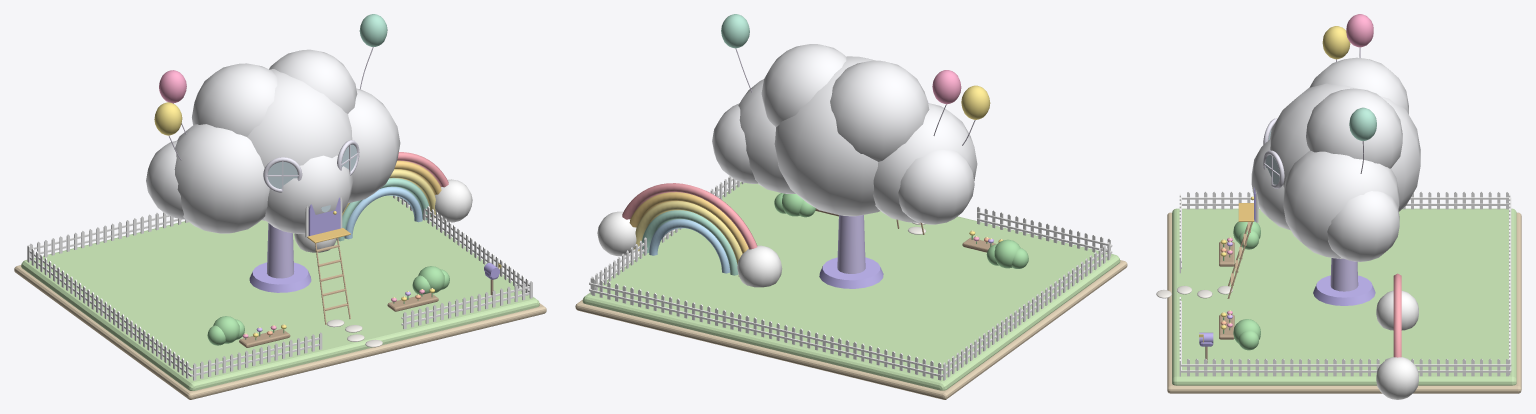
Rendered from building_sky_L08.glb.
3 views of the same model, side by side, from view 1: azimuth 30°, elevation 25°; view 2: azimuth 150°, elevation 25°; view 3: azimuth 270°, elevation 25° (orthographic). The views are drawn at different scales.
Parts seen in each view (by area): view 1: sky_L8, Body; view 2: sky_L8, Body; view 3: sky_L8, Body.
Boxes of the visible parts, <box> form: sky_L8: <box>14,195,546,399</box>; Body: <box>146,14,472,324</box>; sky_L8: <box>575,176,1127,399</box>; Body: <box>597,14,990,288</box>; sky_L8: <box>1156,192,1521,393</box>; Body: <box>1227,14,1420,399</box>.
Bounding box in the file's own units: 29.3 × 17.47 × 23.29.
